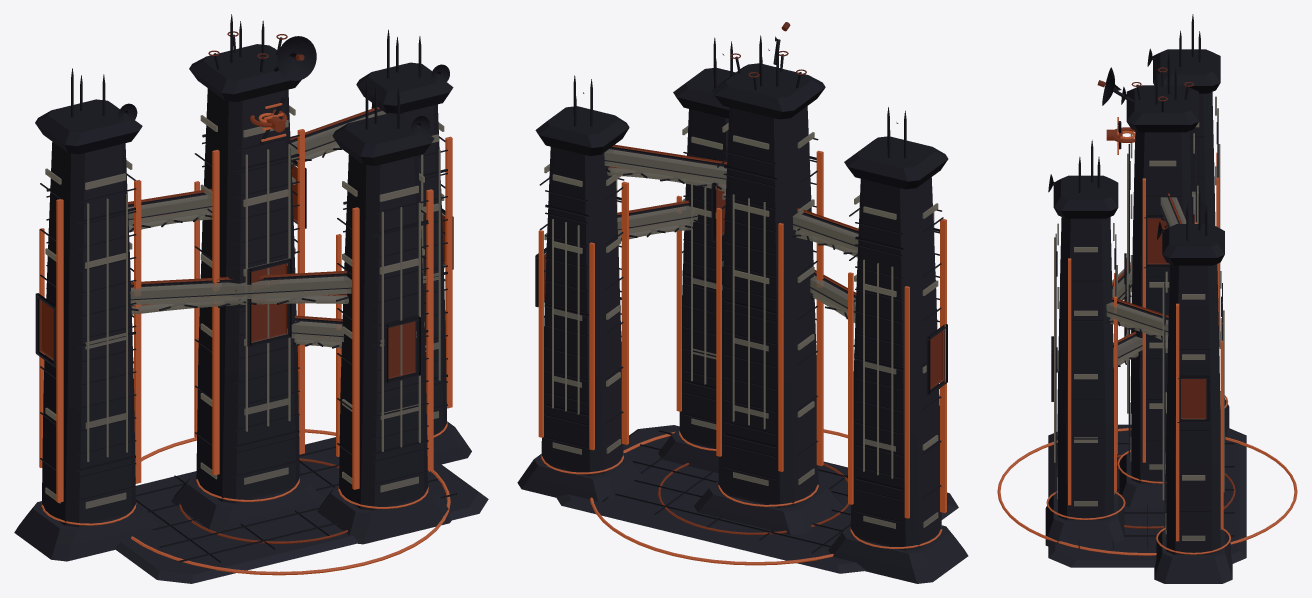
Rendered from chat-ext.glb.
3 views of the same model, side by side, from view 1: azimuth 30°, elevation 25°; view 2: azimuth 150°, elevation 25°; view 3: azimuth 270°, elevation 25° (orthographic). The views are drawn at different scales.
Parts seen in each view (by area): view 1: chat_pod_A_tapered_octagonal_body, chat_pod_B_tapered_octagonal_body, chat_pod_C_tapered_octagonal_body, chat_shared_plaza_octagonal_deck, chat_pod_B_burnt_orange_edge_fins, chat_pod_A_burnt_orange_edge_fins, chat_pod_C_burnt_orange_edge_fins, chat_pod_B_podium_flare, chat_pod_D_tapered_octagonal_body, chat_pod_C_podium_flare, chat_pod_A_podium_flare, chat_skybridge_BC_mid_glass_enclosure (+31 smaller); view 2: chat_pod_A_tapered_octagonal_body, chat_pod_B_tapered_octagonal_body, chat_pod_D_tapered_octagonal_body, chat_shared_plaza_octagonal_deck, chat_pod_C_tapered_octagonal_body, chat_pod_A_burnt_orange_edge_fins, chat_pod_B_burnt_orange_edge_fins, chat_pod_D_burnt_orange_edge_fins, chat_pod_B_podium_flare, chat_pod_A_crown_cap, chat_pod_A_podium_flare, chat_pod_B_crown_cap (+28 smaller); view 3: chat_pod_C_tapered_octagonal_body, chat_pod_D_tapered_octagonal_body, chat_pod_A_tapered_octagonal_body, chat_shared_plaza_octagonal_deck, chat_pod_A_crown_cap, chat_pod_D_podium_flare, chat_pod_C_crown_cap, chat_pod_B_tapered_octagonal_body, chat_pod_D_crown_cap, chat_pod_C_podium_flare, chat_pod_B_crown_cap, chat_pod_D_burnt_orange_edge_fins (+19 smaller).
Part boxes in pixels (x1,y1,x2,y2): chat_pod_A_tapered_octagonal_body: (196, 88, 299, 503); chat_pod_B_tapered_octagonal_body: (41, 142, 136, 527); chat_pod_C_tapered_octagonal_body: (338, 154, 428, 510); chat_shared_plaza_octagonal_deck: (115, 437, 488, 583); chat_pod_B_burnt_orange_edge_fins: (39, 180, 141, 502); chat_pod_A_burnt_orange_edge_fins: (194, 129, 304, 475); chat_pod_C_burnt_orange_edge_fins: (336, 189, 433, 489); chat_pod_B_podium_flare: (14, 501, 158, 561); chat_pod_D_tapered_octagonal_body: (371, 103, 447, 435); chat_pod_C_podium_flare: (317, 485, 451, 544); chat_pod_A_podium_flare: (171, 475, 324, 530); chat_skybridge_BC_mid_glass_enclosure: (130, 276, 351, 305); chat_pod_A_tapered_octagonal_body: (718, 106, 818, 508); chat_pod_B_tapered_octagonal_body: (850, 177, 941, 550); chat_pod_D_tapered_octagonal_body: (541, 147, 623, 476); chat_shared_plaza_octagonal_deck: (556, 425, 958, 573); chat_pod_C_tapered_octagonal_body: (679, 109, 728, 448); chat_pod_A_burnt_orange_edge_fins: (716, 150, 823, 471); chat_pod_B_burnt_orange_edge_fins: (848, 219, 946, 518); chat_pod_D_burnt_orange_edge_fins: (538, 181, 628, 450); chat_pod_B_podium_flare: (828, 525, 968, 583); chat_pod_A_crown_cap: (711, 63, 825, 119); chat_pod_A_podium_flare: (694, 481, 842, 535); chat_pod_B_crown_cap: (844, 136, 948, 189); chat_pod_C_tapered_octagonal_body: (1057, 217, 1113, 520); chat_pod_D_tapered_octagonal_body: (1166, 264, 1220, 554); chat_pod_A_tapered_octagonal_body: (1131, 131, 1192, 483); chat_shared_plaza_octagonal_deck: (1048, 424, 1246, 567); chat_pod_A_crown_cap: (1126, 85, 1198, 132); chat_pod_D_podium_flare: (1154, 529, 1232, 583); chat_pod_C_crown_cap: (1053, 175, 1118, 218); chat_pod_B_tapered_octagonal_body: (1190, 92, 1215, 225); chat_pod_D_crown_cap: (1162, 224, 1224, 265); chat_pod_C_podium_flare: (1045, 493, 1124, 546); chat_pod_B_crown_cap: (1153, 49, 1220, 93); chat_pod_D_burnt_orange_edge_fins: (1176, 303, 1223, 541).
Bounding box in the file's own units: 12.61 × 14.54 × 8.79.
